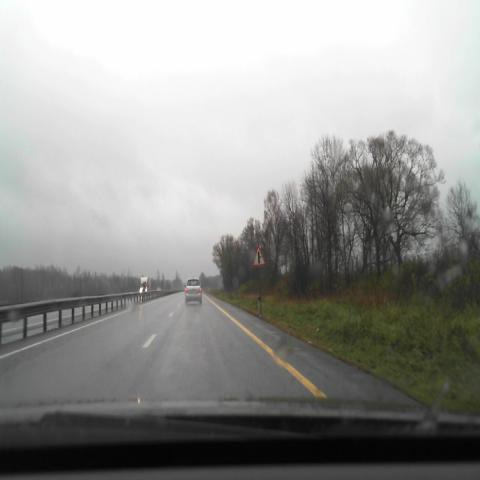2_3_2: (252, 245, 266, 269)
